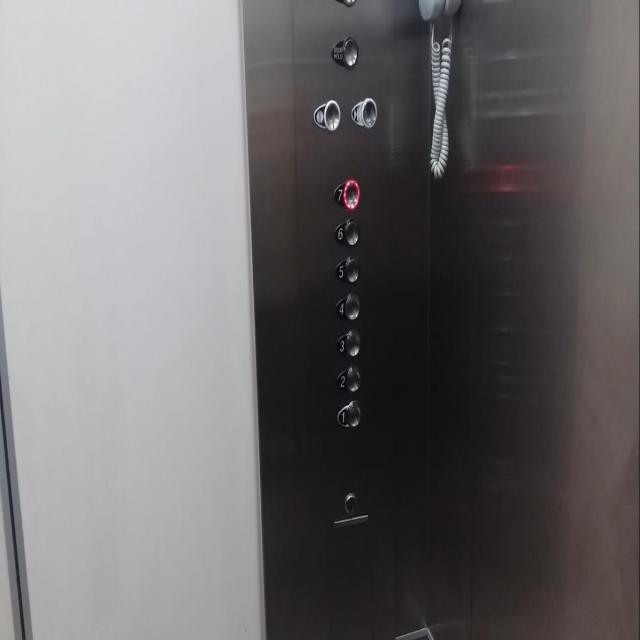1: (336, 398, 363, 432)
2: (335, 361, 362, 395)
3: (334, 325, 362, 359)
4: (334, 288, 361, 322)
5: (334, 252, 361, 286)
6: (333, 214, 360, 248)
7: (333, 176, 360, 210)
close: (351, 95, 378, 129)
open: (313, 97, 341, 131)
text_hold: (330, 32, 359, 68)
